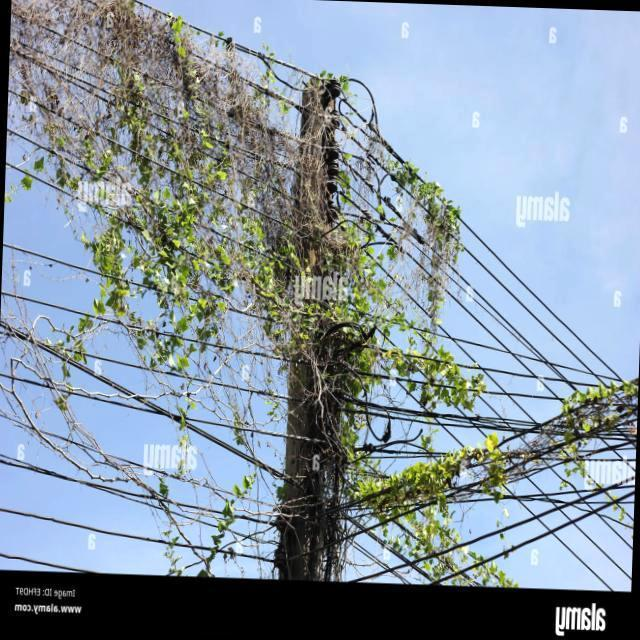critical vegetation: (130, 51, 456, 560)
